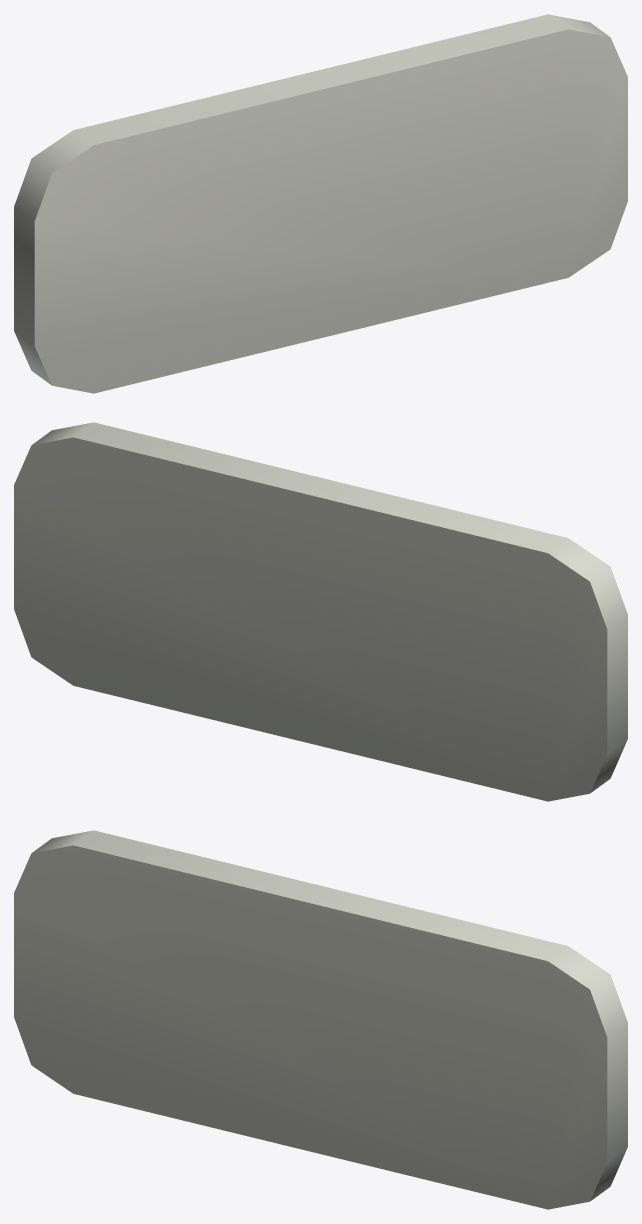
File: Sign_Metal_03.fbx
The picture shows the model from 3 angles, top to bottom: view 1: azimuth 30°, elevation 25°; view 2: azimuth 150°, elevation 25°; view 3: azimuth 330°, elevation 25°; orthographic projection.
Parts seen in each view (by area): view 1: Sign_Metal_03; view 2: Sign_Metal_03; view 3: Sign_Metal_03.
Boxes of the visible parts, box(x1,y1,x2,y2) form: Sign_Metal_03: box(14, 14, 627, 393); Sign_Metal_03: box(14, 422, 627, 801); Sign_Metal_03: box(14, 830, 627, 1209).
Bounding box in the file's own units: 100 × 40 × 6.
